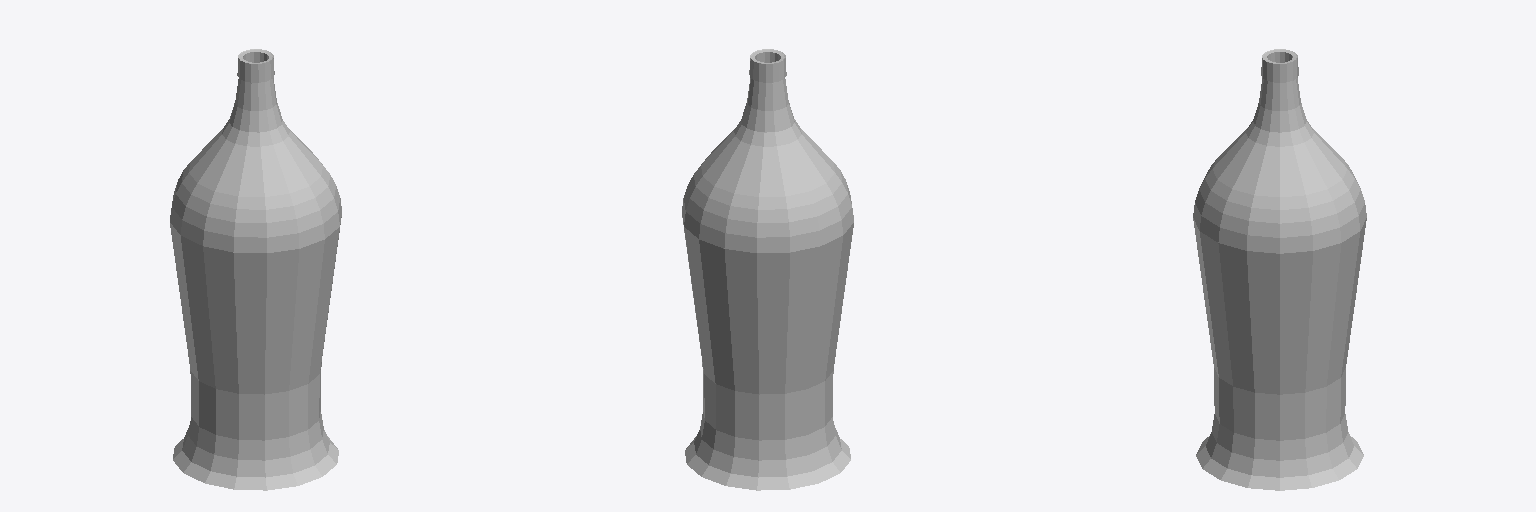
File: bottle.obj
3 renders of one model, left to right at view 1: azimuth 30°, elevation 25°; view 2: azimuth 150°, elevation 25°; view 3: azimuth 270°, elevation 25°, orthographic.
Visible parts, largest first — view 1: BezierCurve_CUBezierCurve.002; view 2: BezierCurve_CUBezierCurve.002; view 3: BezierCurve_CUBezierCurve.002.
Boxes of the visible parts, box(x1,y1,x2,y2) form: BezierCurve_CUBezierCurve.002: box(170, 49, 341, 490); BezierCurve_CUBezierCurve.002: box(682, 49, 853, 490); BezierCurve_CUBezierCurve.002: box(1193, 49, 1366, 490).
Bounding box in the file's own units: 2.96 × 7.48 × 2.96.